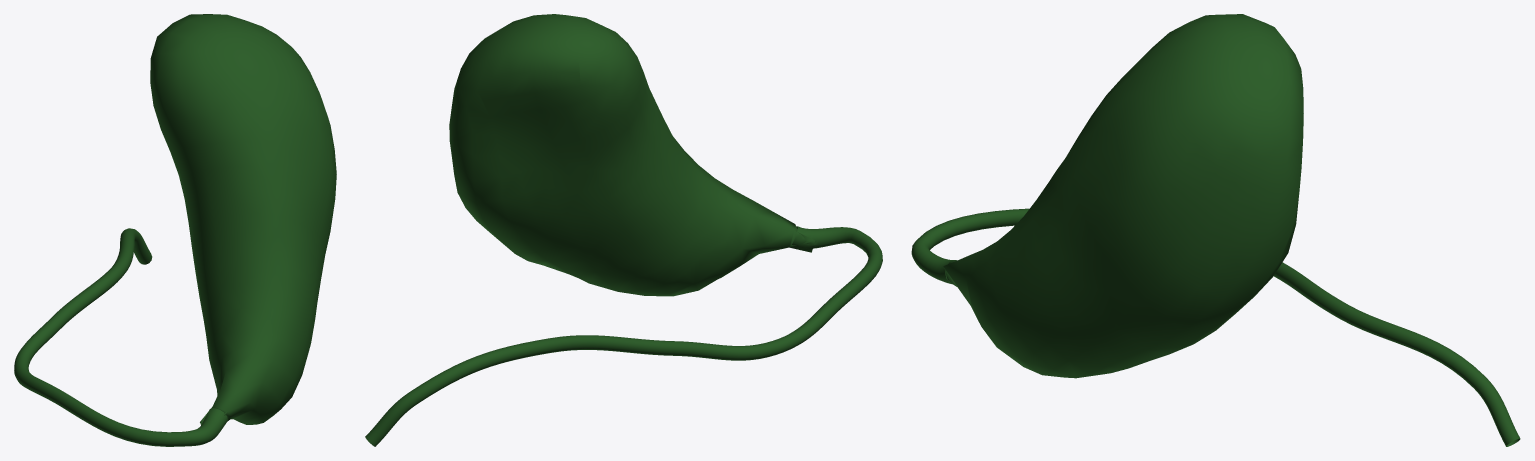
File: VESICULAUNIDA.fbx
3 views of the same model, side by side, from view 1: azimuth 30°, elevation 25°; view 2: azimuth 150°, elevation 25°; view 3: azimuth 270°, elevation 25° (orthographic). The views are drawn at different scales.
Visible parts, largest first — view 1: Bile_duct; view 2: Bile_duct; view 3: Bile_duct.
Boxes of the visible parts, left/top/right/bottom form: Bile_duct: left=14, top=14, right=336, bottom=446; Bile_duct: left=365, top=14, right=882, bottom=446; Bile_duct: left=911, top=14, right=1520, bottom=446.
Bounding box in the file's own units: 5.01 × 5.18 × 7.34.
